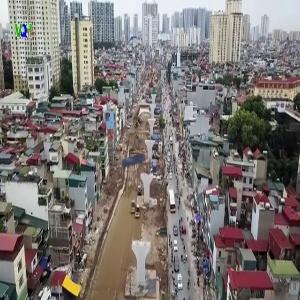drone: (100, 121, 169, 190)
